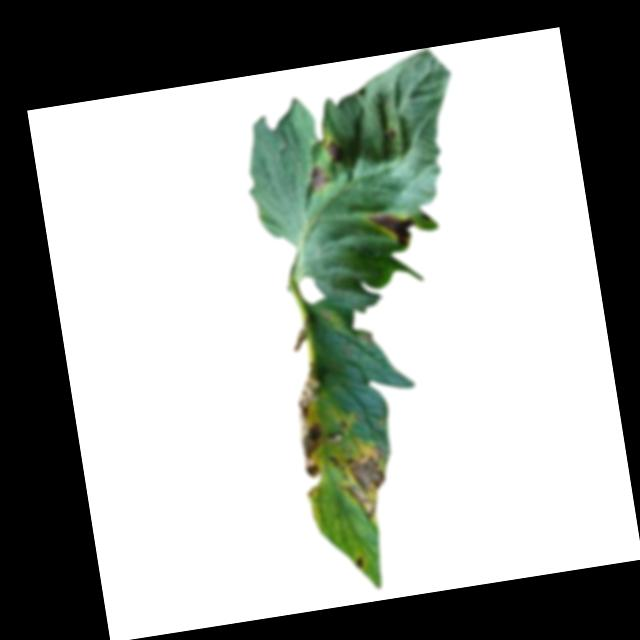Early_blight: (288, 364, 340, 495), (332, 442, 402, 523), (366, 203, 417, 249), (306, 167, 330, 189), (322, 138, 339, 159), (351, 551, 364, 571)
